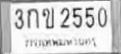0: (98, 7, 108, 28)
2: (60, 7, 70, 28)
3: (14, 8, 24, 29)
5: (85, 7, 95, 28), (72, 7, 82, 28)
A01: (27, 7, 39, 28)
A02: (41, 7, 54, 28)
BKK: (23, 35, 99, 48)
